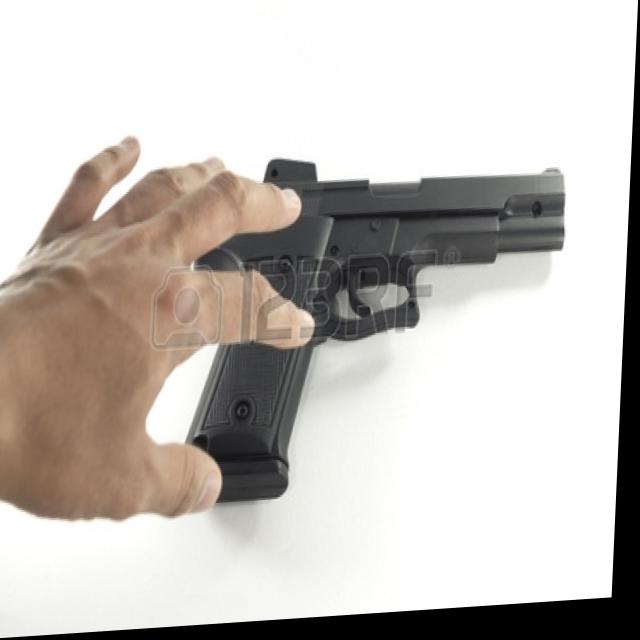handgun: (185, 145, 571, 508)
